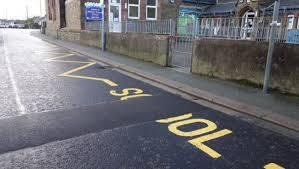Bump: (0, 87, 213, 156)
